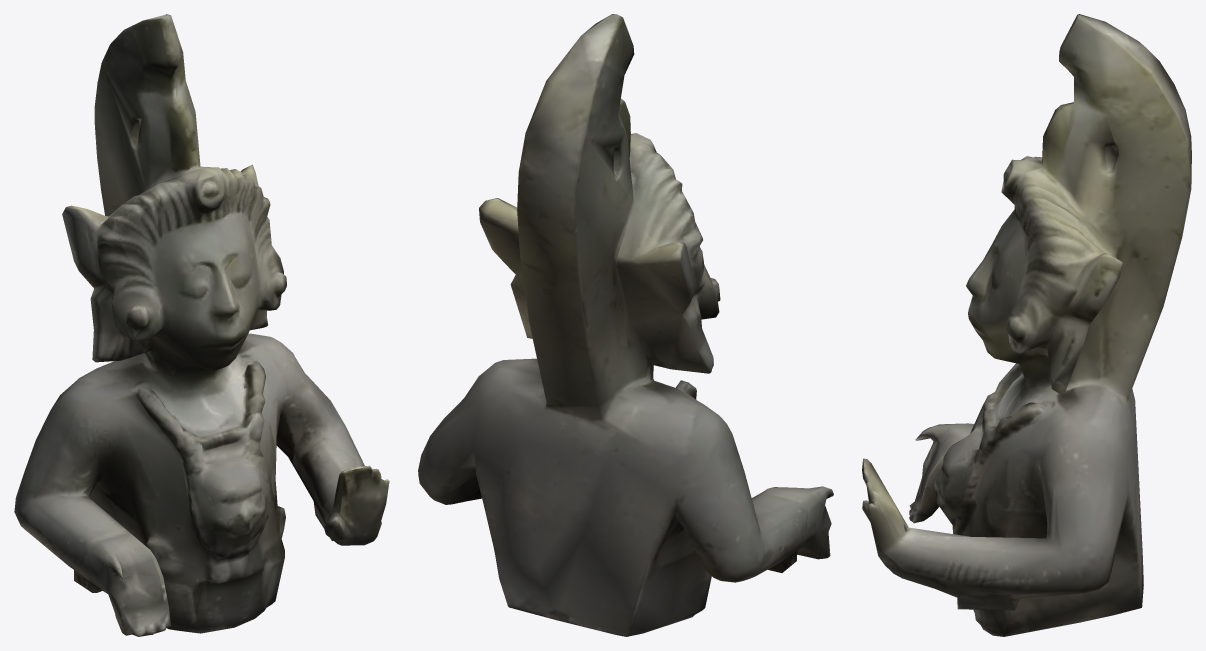
Rendered from maize-god.lod0.glb.
3 views of the same model, side by side, from view 1: azimuth 30°, elevation 25°; view 2: azimuth 150°, elevation 25°; view 3: azimuth 270°, elevation 25° (orthographic). The views are drawn at different scales.
Visible parts, largest first — view 1: Object_2; view 2: Object_2; view 3: Object_2.
Boxes of the visible parts, x1,y1,x2,y2 form: Object_2: (14,14,389,636); Object_2: (418,14,833,636); Object_2: (862,14,1191,636).
Size of the model in its own units: 1.16 by 2 by 1.01.
Materials: 1 (1 with a texture image).
